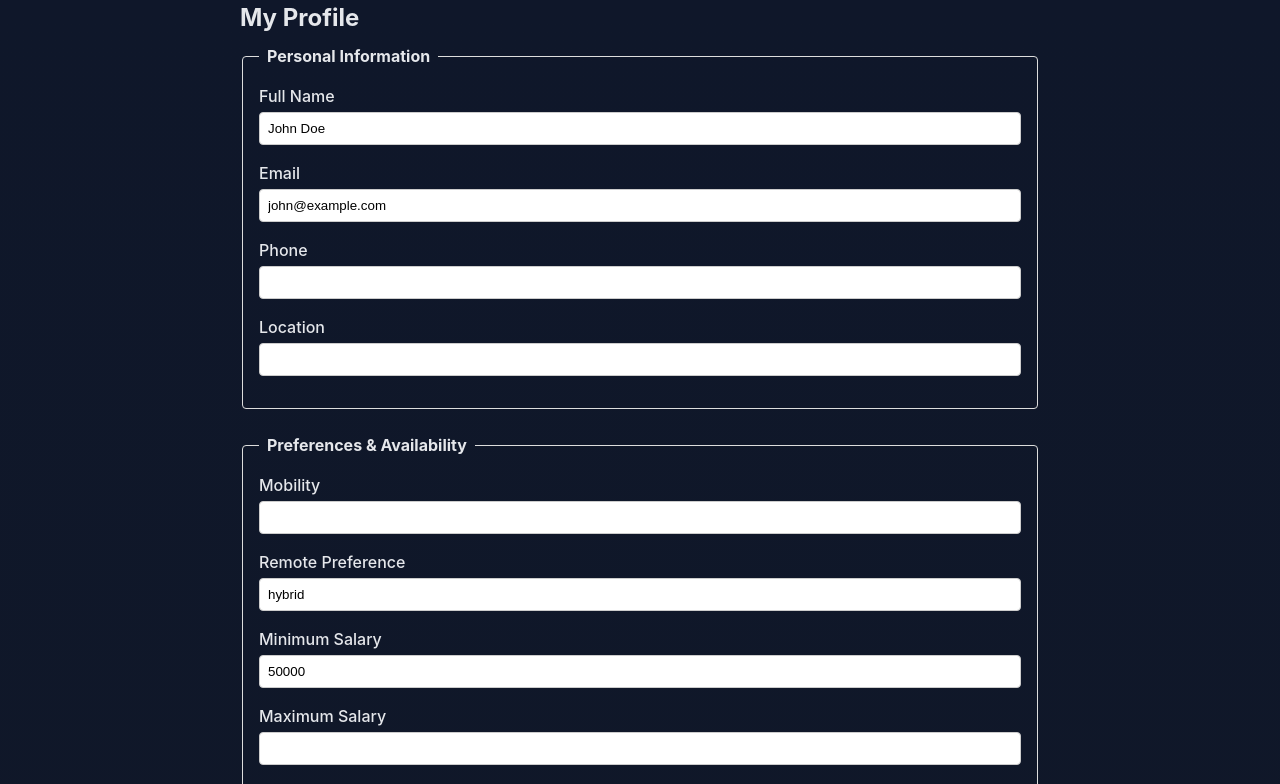
Test: ProfilePage › handles PUT error without losing draft
Step 1. Replace the text in the field labelled "Full Name" with "Jane Changed" → (640, 128), box [259, 112, 1021, 145]
(page scrolled)
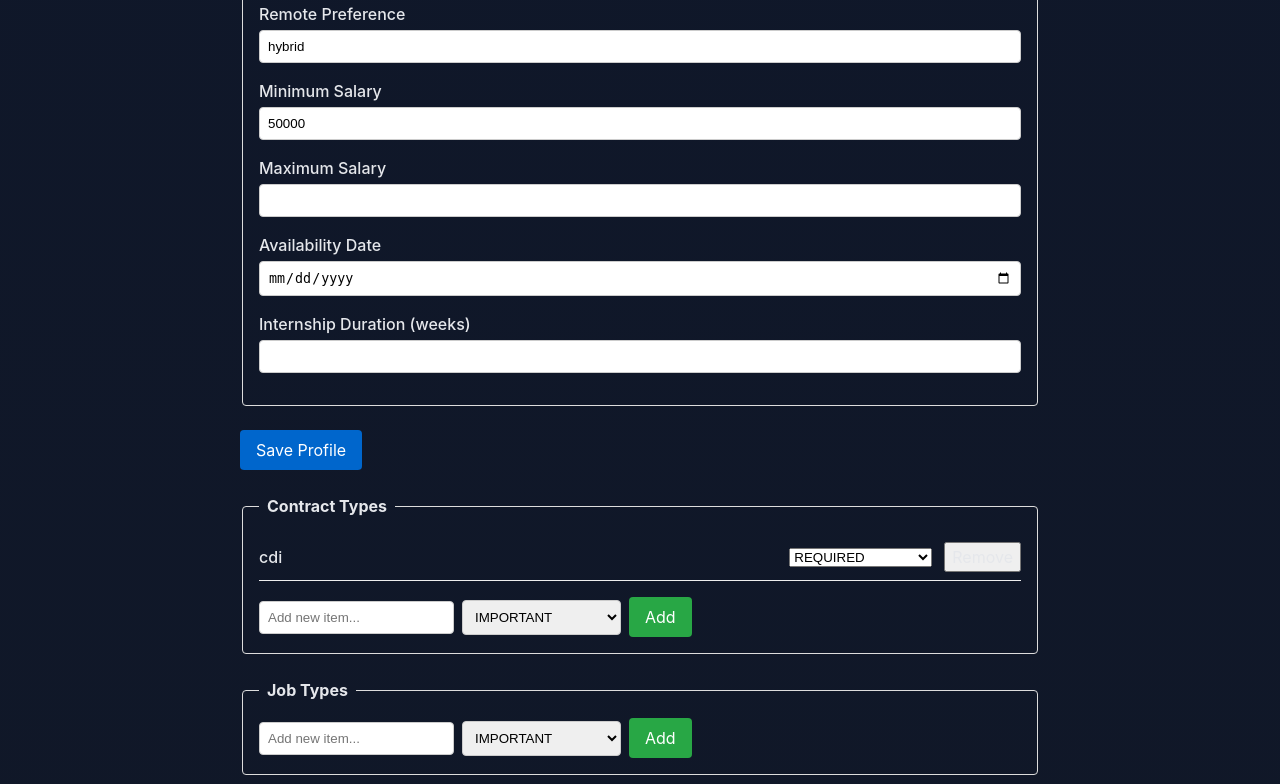
Step 2. Click the button "Save Profile" → (301, 450), box [240, 430, 362, 470]
(page scrolled)
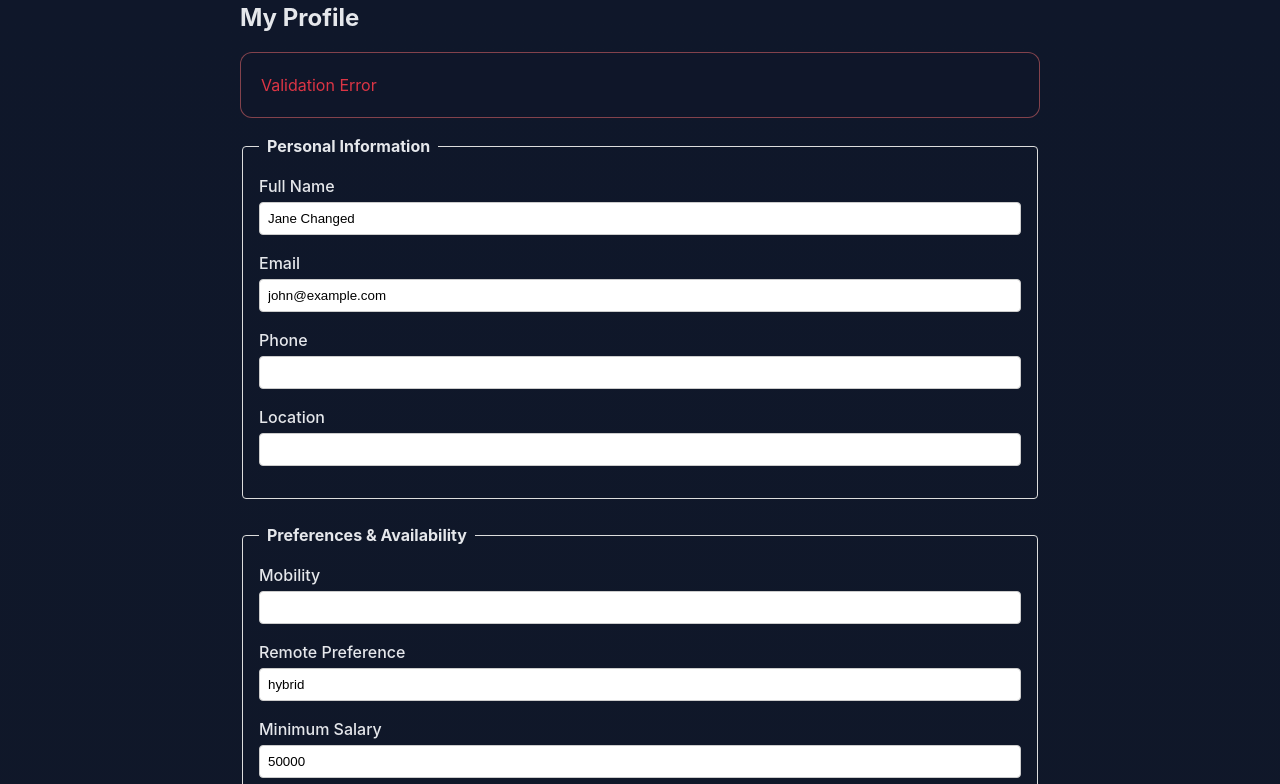
Result: the text "Validation Error" is shown at [240, 52, 1040, 118]
